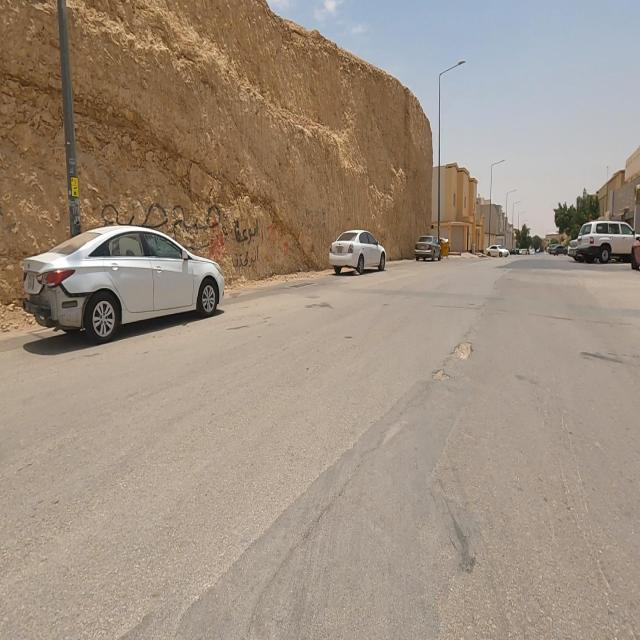Graffiti: (101, 199, 292, 271)
